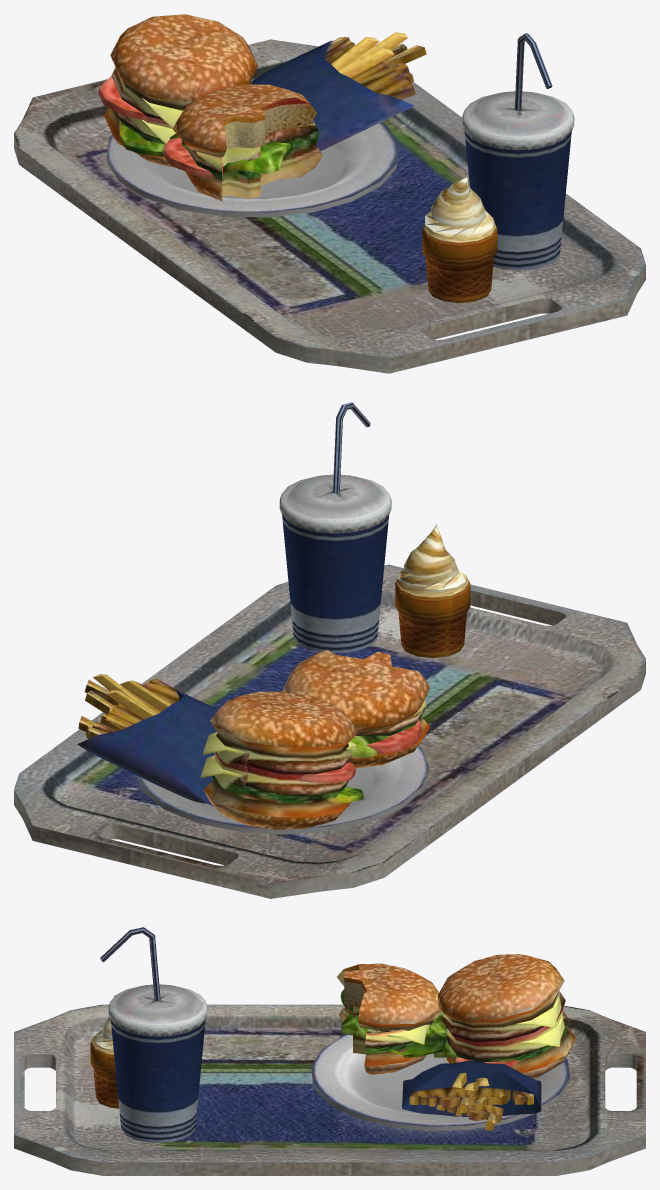
The picture shows the model from 3 angles, top to bottom: view 1: azimuth 30°, elevation 25°; view 2: azimuth 150°, elevation 25°; view 3: azimuth 270°, elevation 25°; orthographic projection. The views are drawn at different scales.
Visible parts, largest first — view 1: burgerdish01_obj_uni12_ag; view 2: burgerdish01_obj_uni12_ag; view 3: burgerdish01_obj_uni12_ag.
Part boxes in pixels (box(x1,y1,x2,y2)): burgerdish01_obj_uni12_ag: box(14, 14, 645, 373); burgerdish01_obj_uni12_ag: box(14, 402, 645, 898); burgerdish01_obj_uni12_ag: box(14, 927, 645, 1175).
Size of the model in its own units: 40.2 by 24.82 by 67.98.
Materials: 1 (1 with a texture image).
